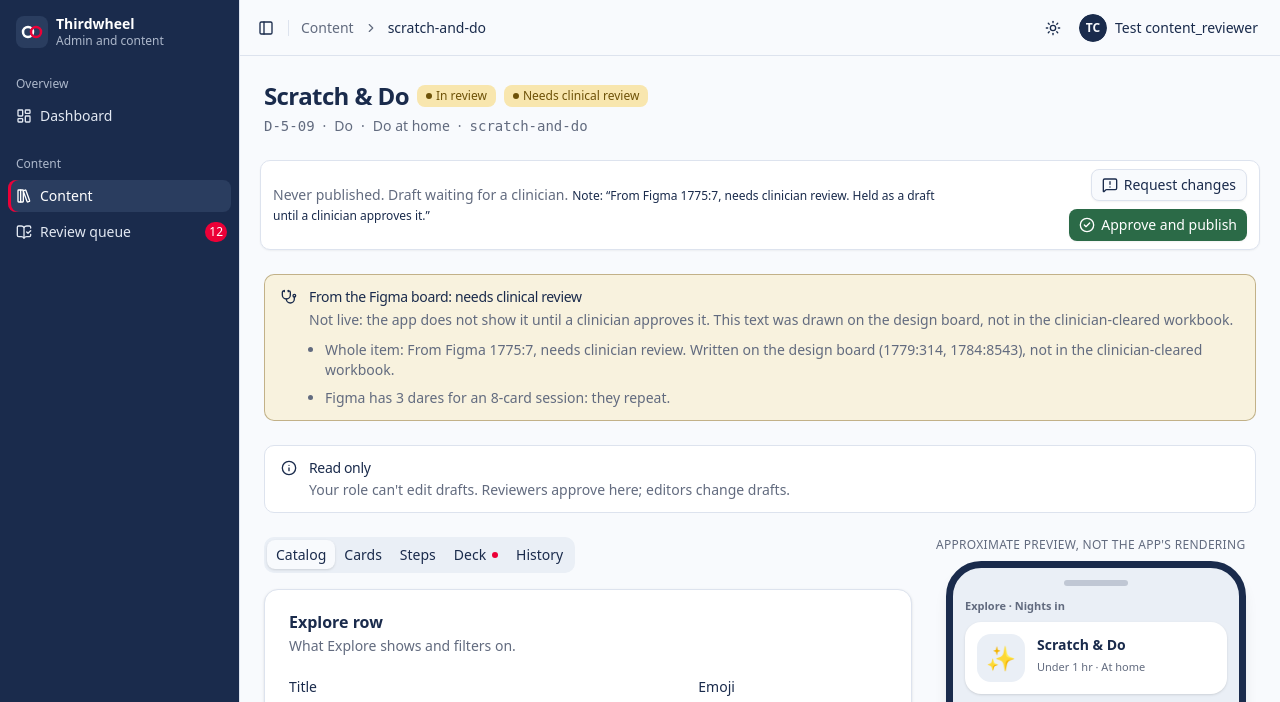
Test: content item editor (mock API) › DECK_TOO_SHORT (v2.5.0): approving a board under 5 cards shows the server message, nothing goes live
What coordinates should you click on to do the following:
click the button "Approve and publish"
I would click on:
 (1158, 225)
Its box is [1069,209,1247,241].
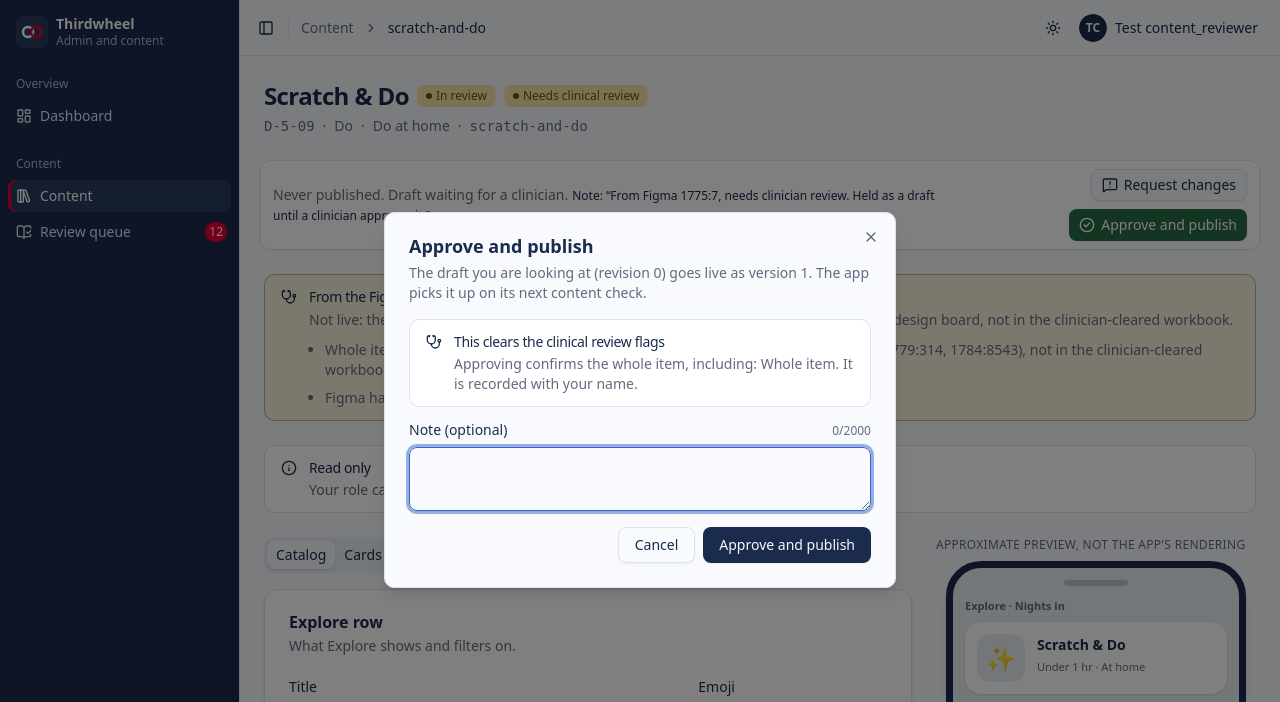
What coordinates should you click on to do the following:
click the button "Approve and publish"
I would click on:
 (787, 545)
Its box is [703,527,871,563].
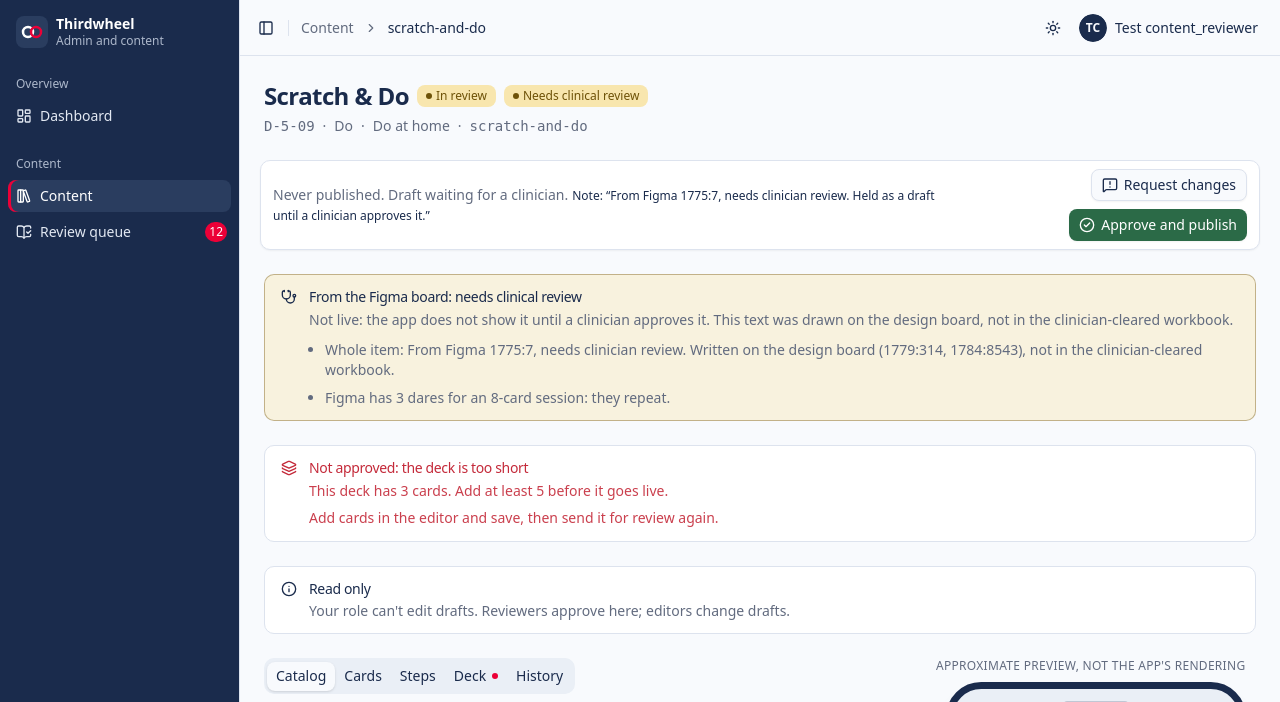
expect the text "Not approved: the deck is too short" is shown: met, box [309,458,528,477]
expect the text "This deck has 3 cards. Add at least 5 before it goes live." is shown: met, box [309,480,668,503]
expect the text "Add cards in the editor and save, then send it for review again." is shown: met, box [309,506,719,529]
